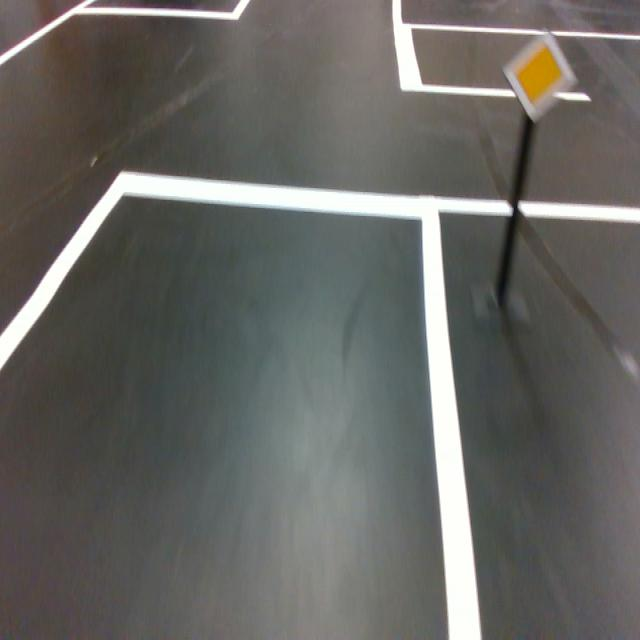priority-sign: (502, 30, 578, 125)
